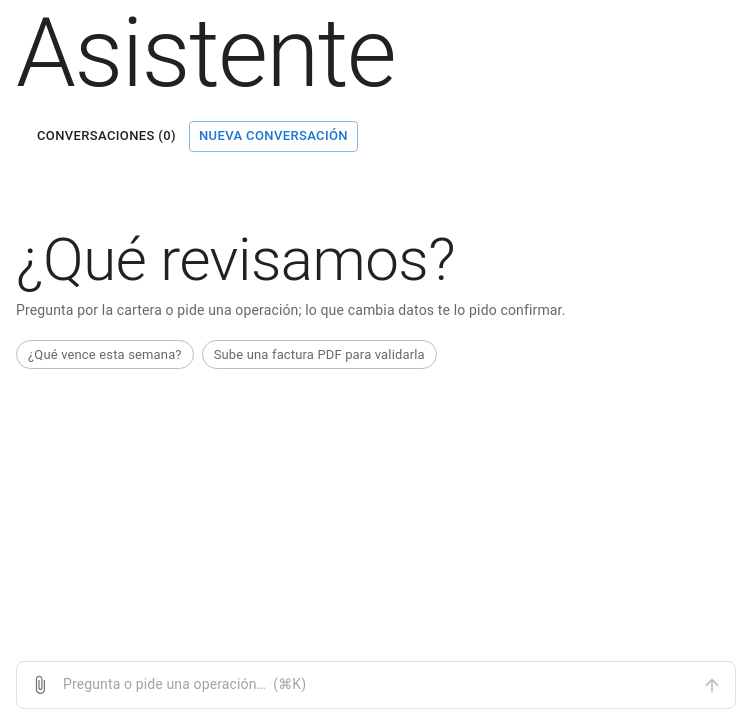
Test: AssistantPage › AC-011-16 guarda sola la conversación al terminar el turno y la lista la muestra
In the text box named "Mensaje": (376, 685) top-left (63, 674), bottom-right (689, 696), type "Hola"
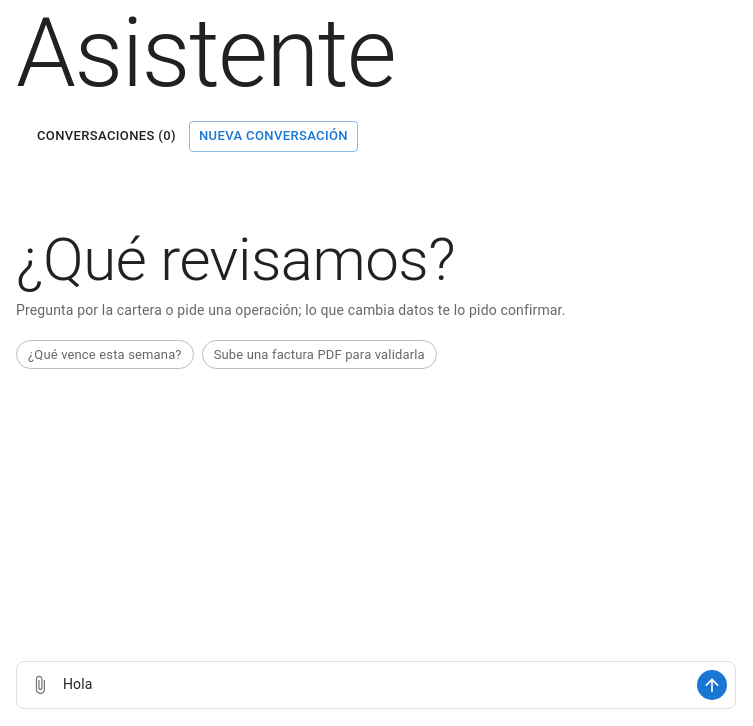
Click the button named "Enviar": (712, 685) top-left (697, 670), bottom-right (727, 700)
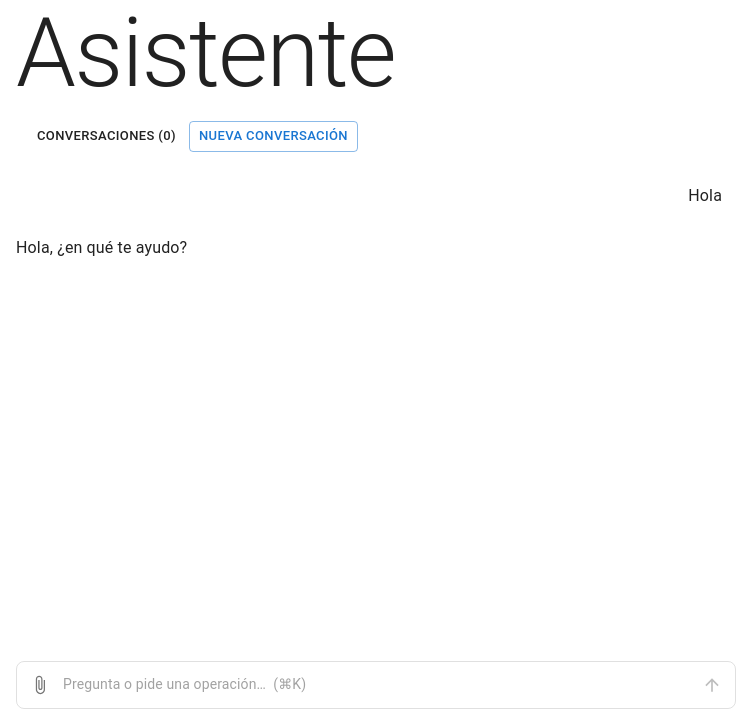
Expected: the text "Hola, ¿en qué te ayudo?" is shown, top-left (16, 238), bottom-right (187, 257)
Expected: the text "Hola" is shown, top-left (688, 184), bottom-right (722, 208)
